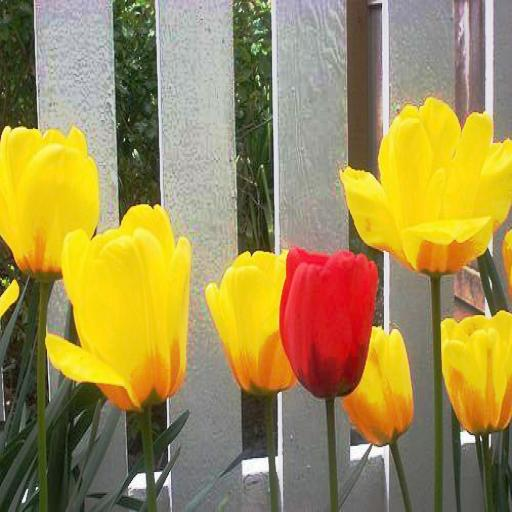tulip: (342, 103, 512, 272), (50, 202, 188, 408), (280, 246, 376, 397), (203, 251, 301, 392), (438, 312, 512, 429)
